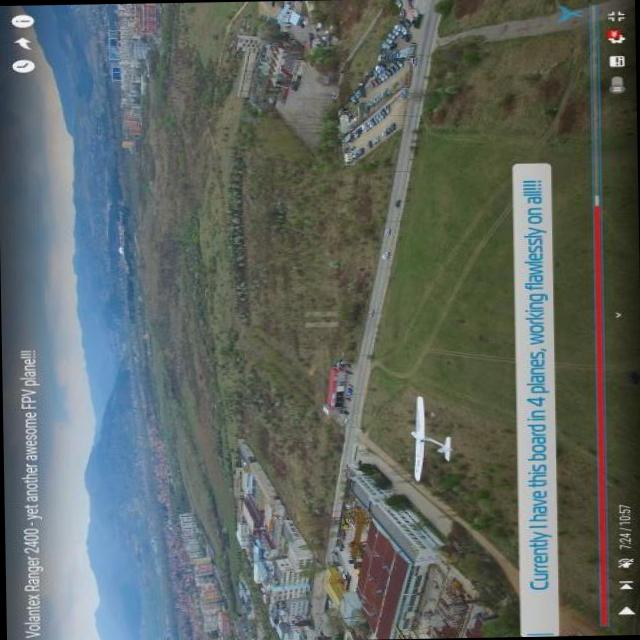UAV: (378, 372, 482, 482)
